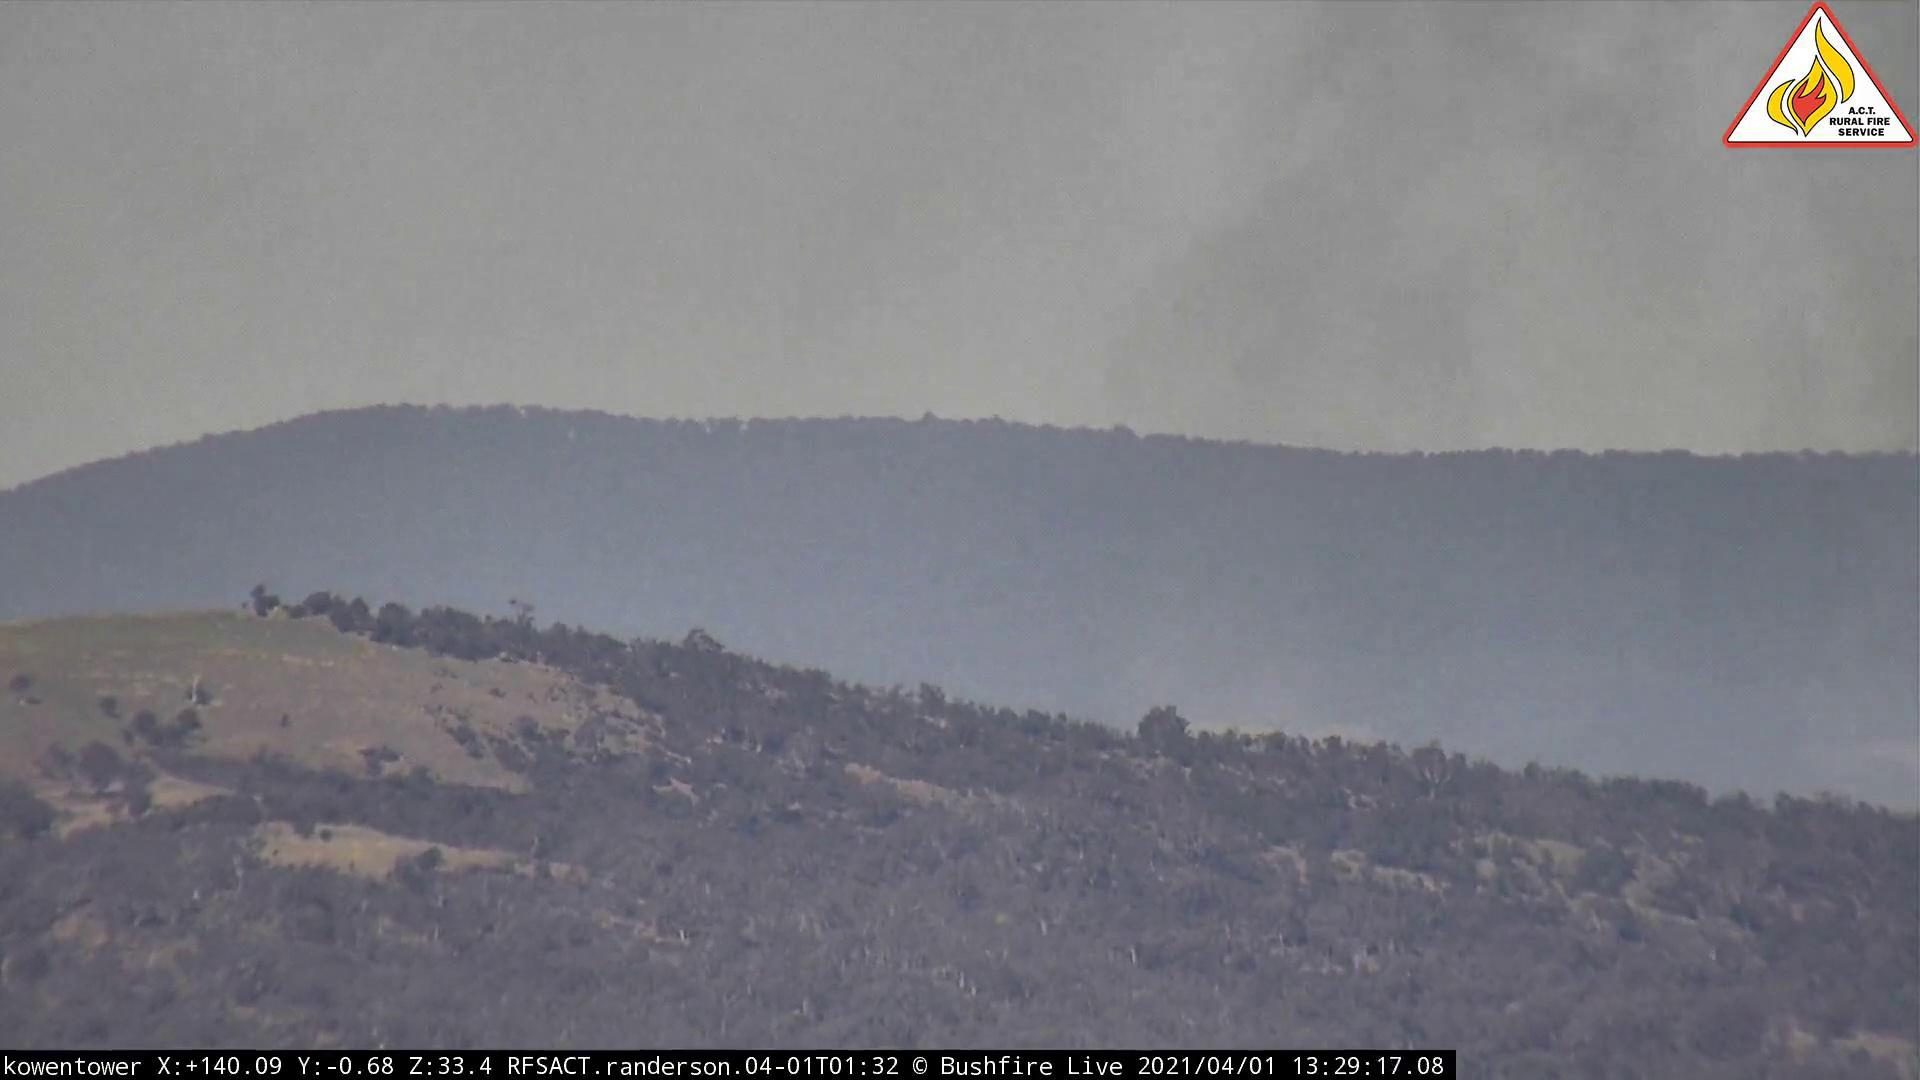Smoke: (1085, 3, 1920, 757)
